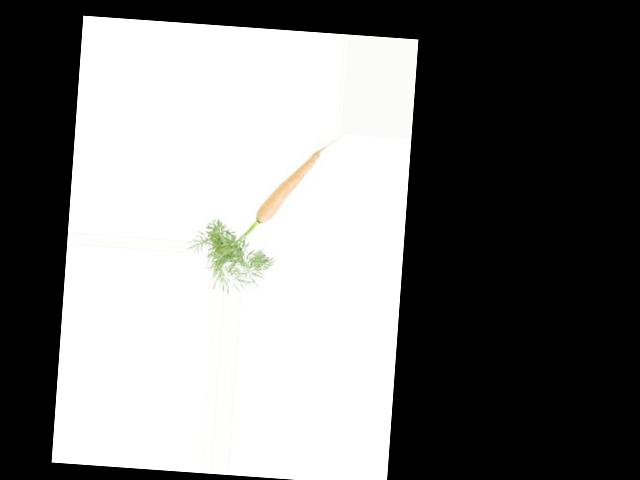carrot: (253, 140, 326, 230)
